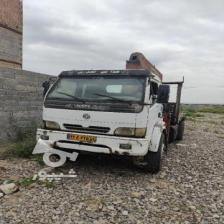plate: (67, 132, 97, 142)
